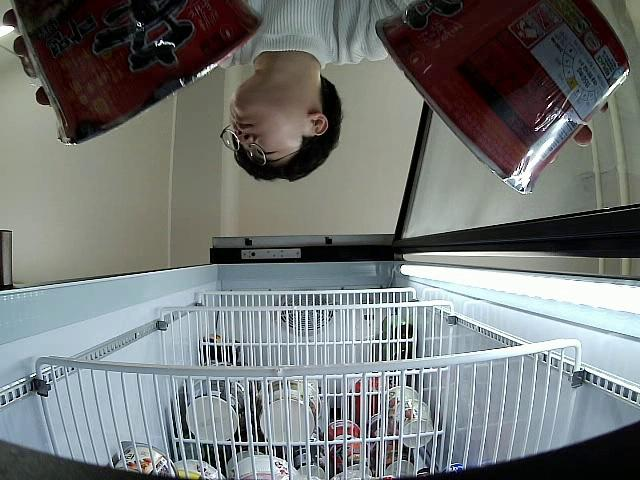00_hand: (2, 8, 53, 108)
01_shinRamen_L: (376, 0, 629, 195), (9, 0, 264, 146)
